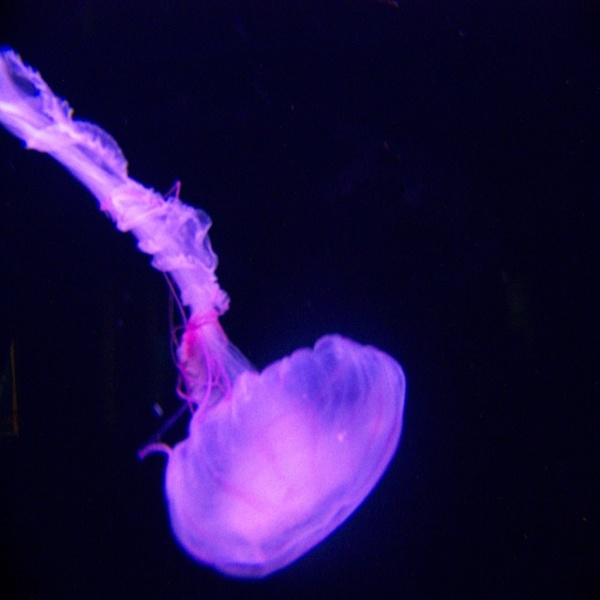Jellyfish: (0, 42, 407, 588)
